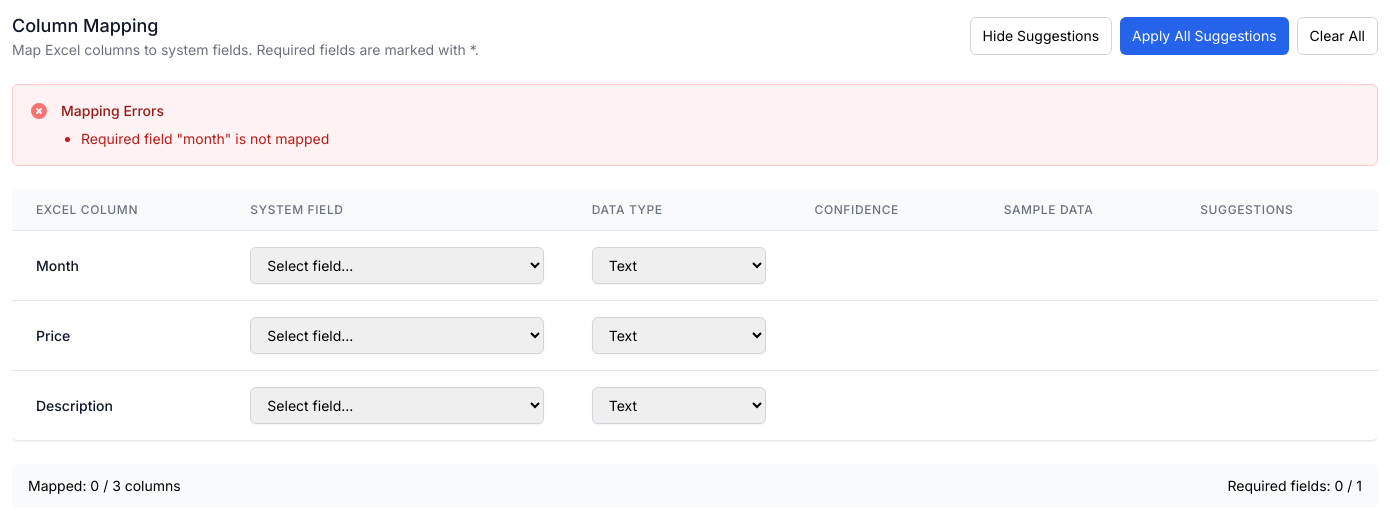
it: ColumnMappingInterface › should toggle suggestions visibility
This screenshot has width=1390, height=511.
Click the button "Hide Suggestions" at (1041, 36), box 970,17 -> 1112,55
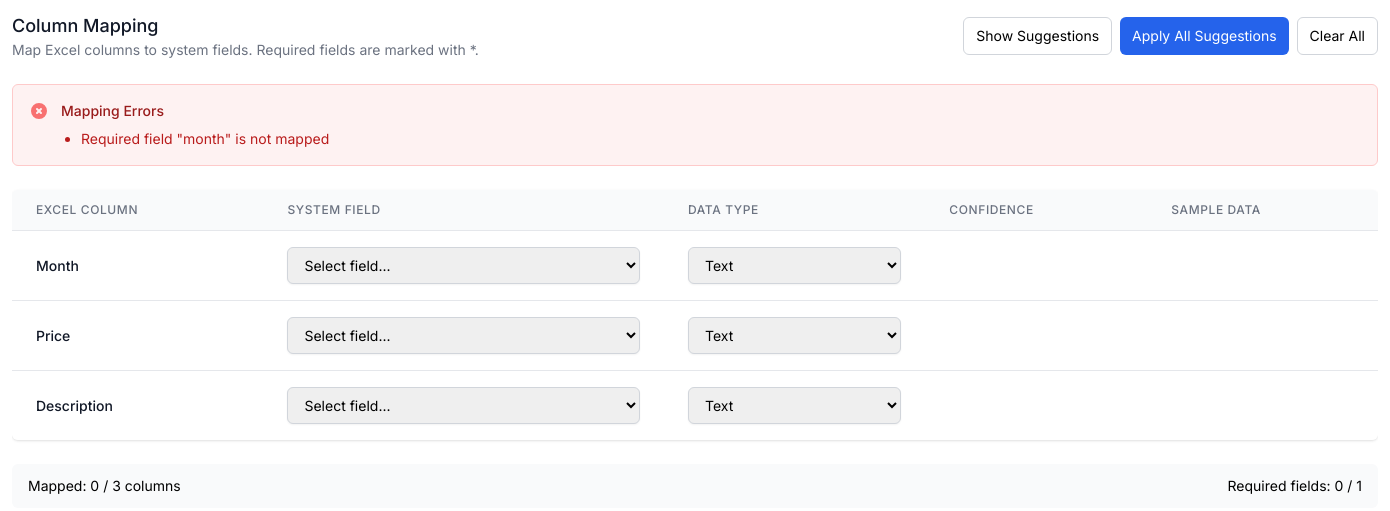
Result: the button "Show Suggestions" is shown at 963,17 -> 1112,55
